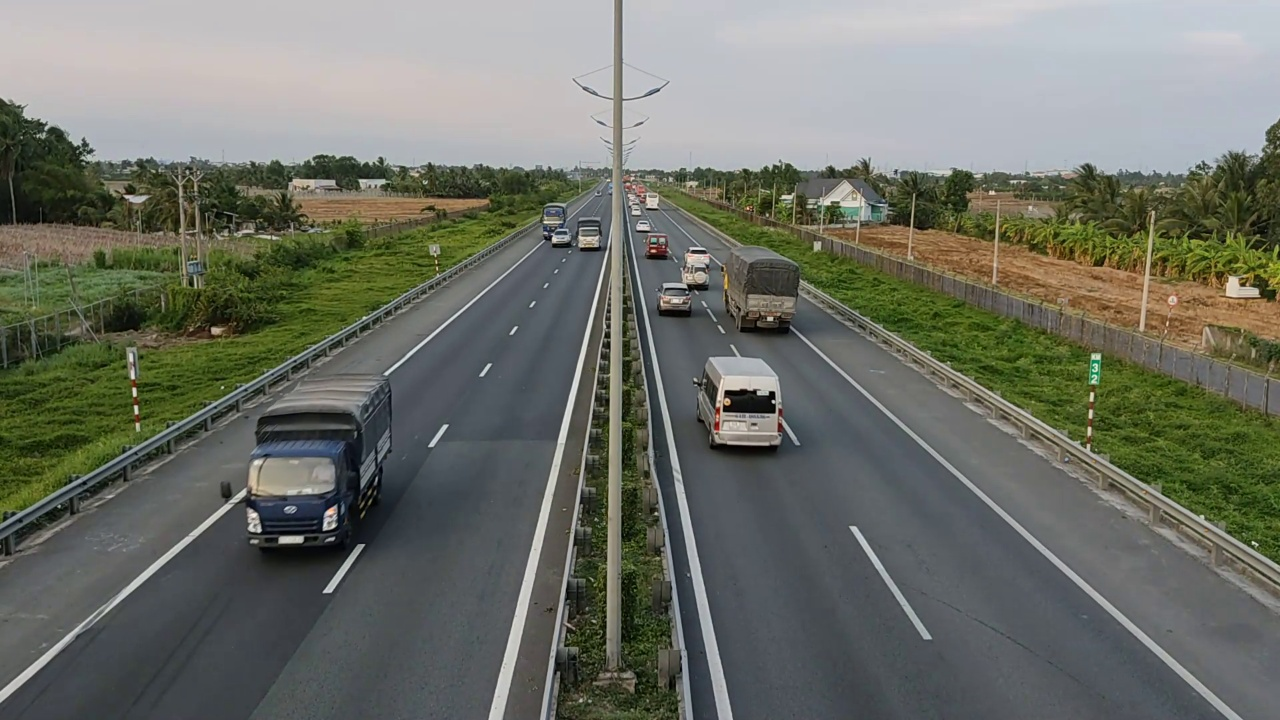car: (692, 353, 783, 449), (656, 281, 693, 315), (644, 233, 671, 259), (551, 227, 572, 247)
truck: (240, 368, 397, 560), (722, 245, 802, 333), (577, 218, 603, 249)
